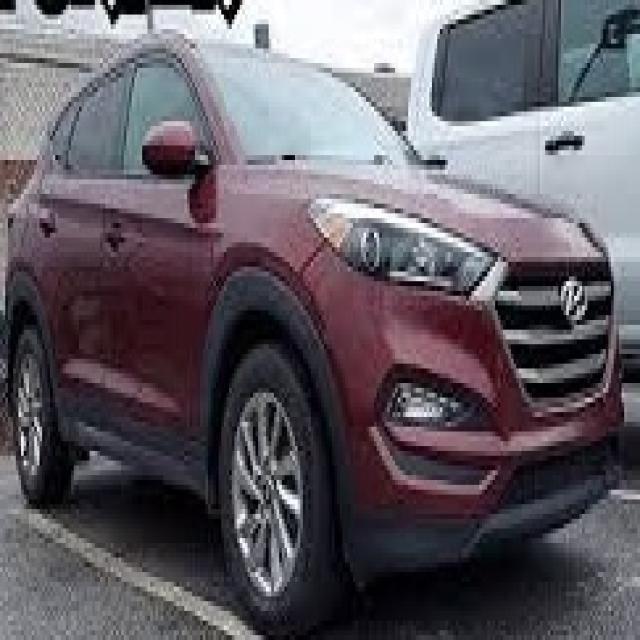maroon: (5, 33, 622, 560)
